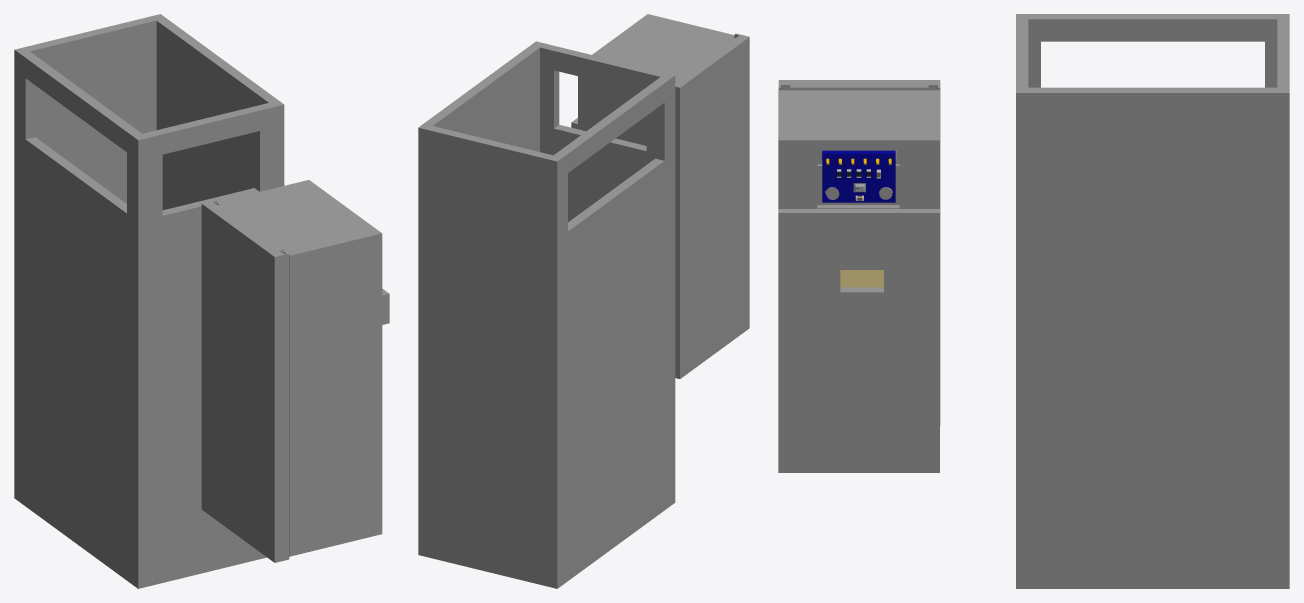
File: Pico Probe v6.fbx
The picture shows the model from 3 angles, left to right: view 1: azimuth 30°, elevation 25°; view 2: azimuth 150°, elevation 25°; view 3: azimuth 270°, elevation 25°; orthographic projection. The views are drawn at different scales.
Parts seen in each view (by area): view 1: Body1, Body (2), Lid; view 2: Body1, Lid, Body (2); view 3: Body1, Body (2), Foot 1, Solid2, Lid, VSCHPVM.
Part boxes in pixels (bbox=[...]): Body1: bbox=[14, 14, 284, 588]; Body (2): bbox=[217, 180, 382, 556]; Lid: bbox=[201, 200, 289, 562]; Body1: bbox=[418, 41, 675, 588]; Lid: bbox=[675, 33, 749, 378]; Body (2): bbox=[578, 14, 734, 145]; Body1: bbox=[1016, 14, 1289, 588]; Body (2): bbox=[778, 90, 939, 472]; Foot 1: bbox=[778, 209, 939, 245]; Solid2: bbox=[822, 150, 895, 202]; Lid: bbox=[778, 80, 940, 425]; VSCHPVM: bbox=[840, 270, 883, 287].
Bounding box in the file's own units: 1.5 × 4.4 × 4.11.
